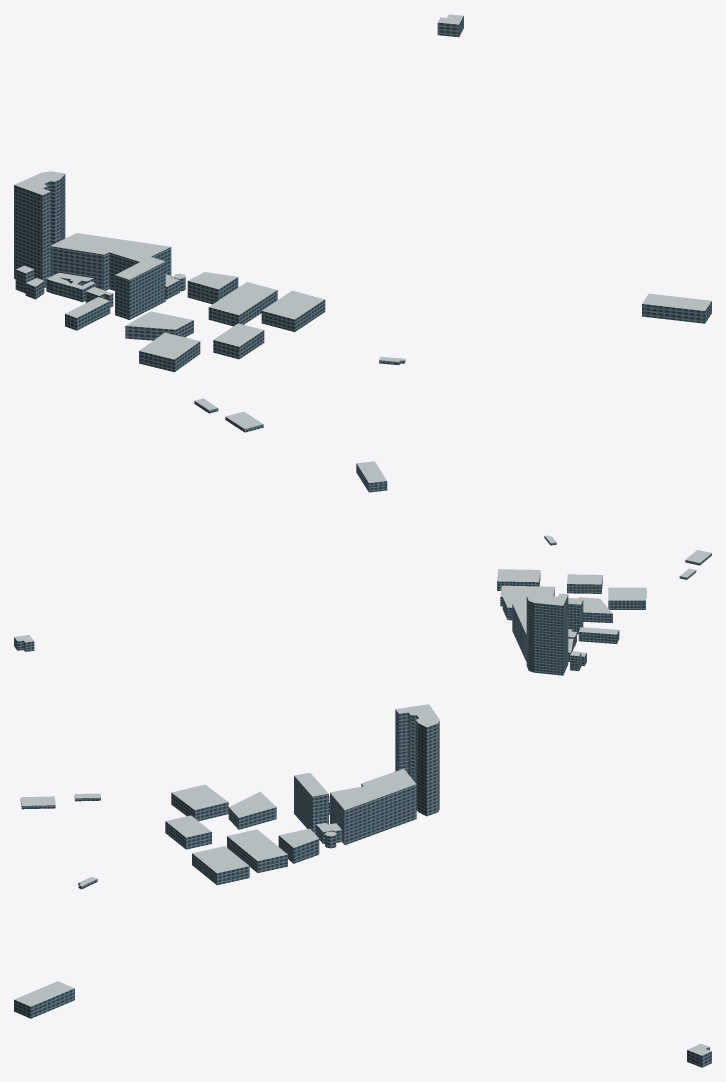
The picture shows the model from 3 angles, top to bottom: view 1: azimuth 30°, elevation 25°; view 2: azimuth 150°, elevation 25°; view 3: azimuth 270°, elevation 25°; orthographic projection. The views are drawn at different scales.
Bounding box in the file's own units: 604 × 89.63 × 637.
2 materials, 1 textured.
